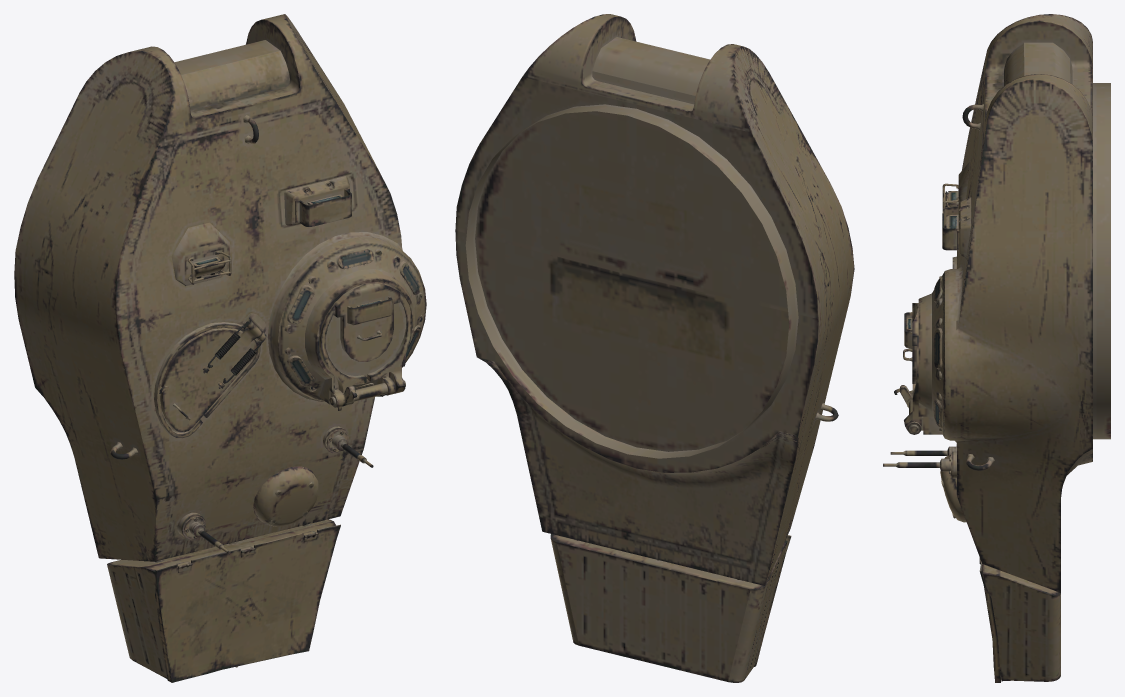
File: Turret_01.glb
3 views of the same model, side by side, from view 1: azimuth 30°, elevation 25°; view 2: azimuth 150°, elevation 25°; view 3: azimuth 270°, elevation 25° (orthographic). The views are drawn at different scales.
Visible parts, largest first — view 1: set_0_group_0; view 2: set_0_group_0; view 3: set_0_group_0.
Boxes of the visible parts, x1=… form: set_0_group_0: x1=14, y1=14, x2=426, y2=682; set_0_group_0: x1=455, y1=14, x2=854, y2=682; set_0_group_0: x1=883, y1=14, x2=1110, y2=682.
Bounding box in the file's own units: 2.24 × 3.74 × 1.28.
1 material, 1 textured.
